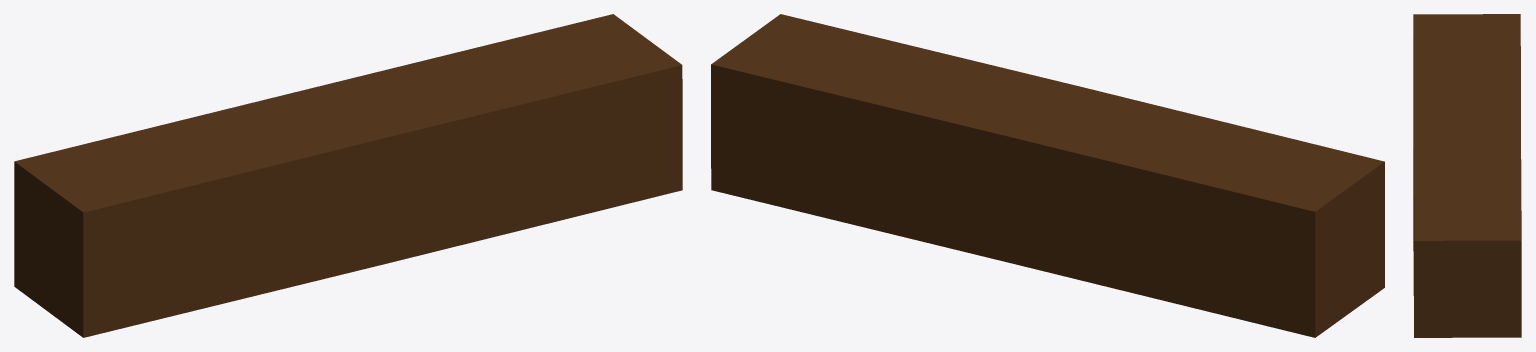
File: balken_1m.glb
3 renders of one model, left to right at view 1: azimuth 30°, elevation 25°; view 2: azimuth 150°, elevation 25°; view 3: azimuth 270°, elevation 25°, orthographic. The views are drawn at different scales.
Parts seen in each view (by area): view 1: balken_1m; view 2: balken_1m; view 3: balken_1m.
Boxes of the visible parts, x1,y1,x2,y2 form: balken_1m: (14,14,682,337); balken_1m: (711,14,1384,337); balken_1m: (1413,14,1521,337).
Size of the model in its own units: 1 by 0.2018 by 0.2017.
